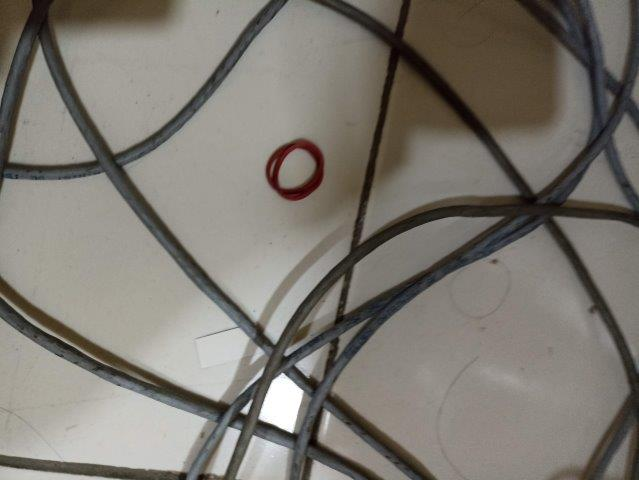karet: (266, 138, 325, 202)
